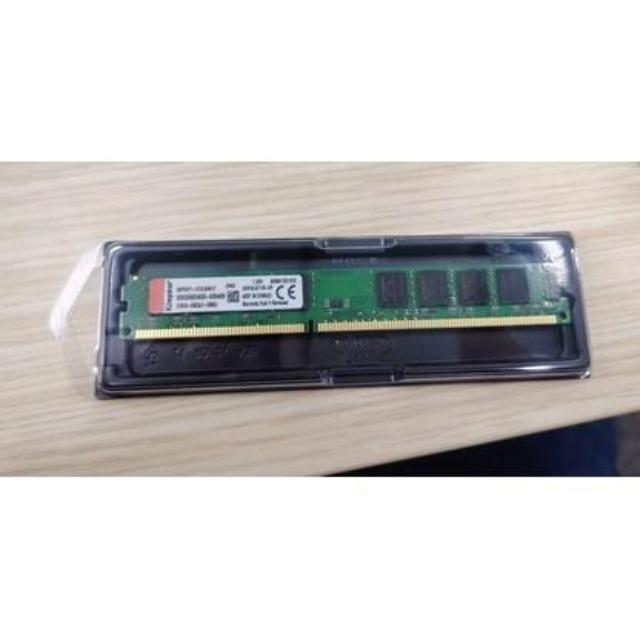RAM: (119, 260, 576, 338)
